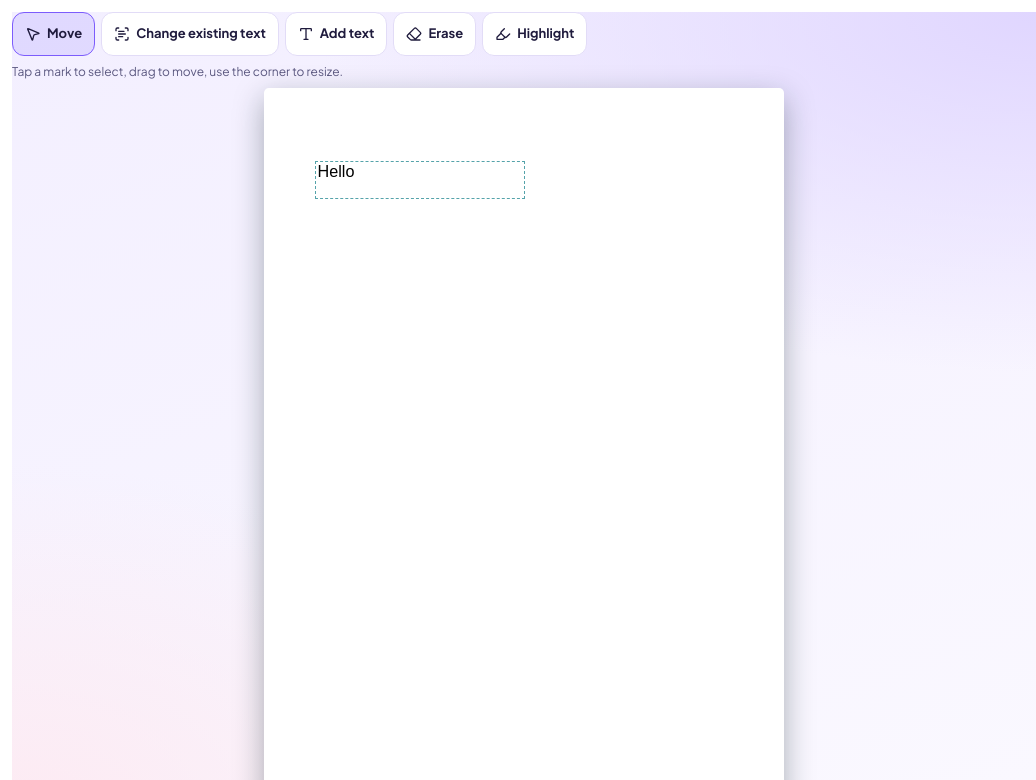
offers the editing tools and explains the active one
This screenshot has width=1036, height=780.
Expected: the button "Move" is shown, [12,12,95,56]
Expected: the button "Change existing text" is shown, [101,12,279,56]
Click the button "Add text" at (336, 34), box [285,12,387,56]
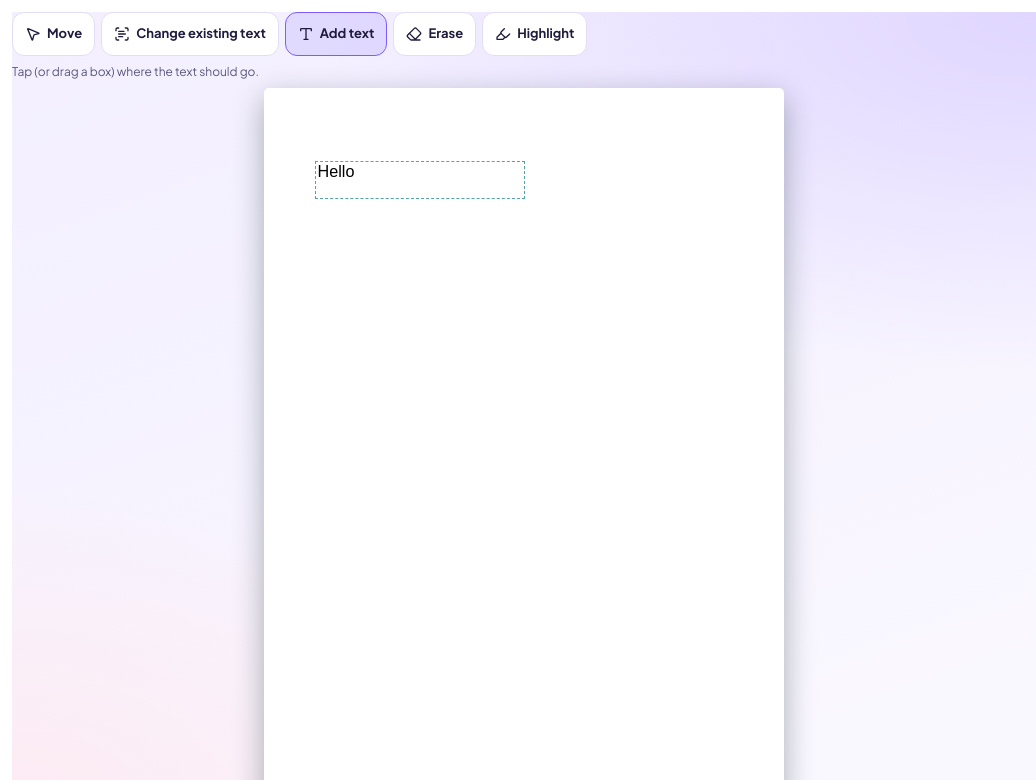
Now the message shows "where the text should go", box [12,64,259,79]
